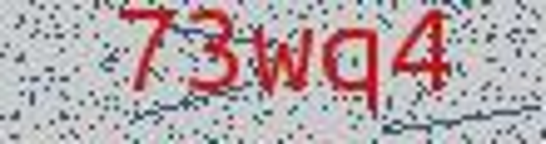3: (184, 7, 247, 99)
4: (389, 5, 461, 98)
7: (115, 4, 177, 95)
q: (317, 19, 389, 121)
w: (249, 15, 319, 101)
